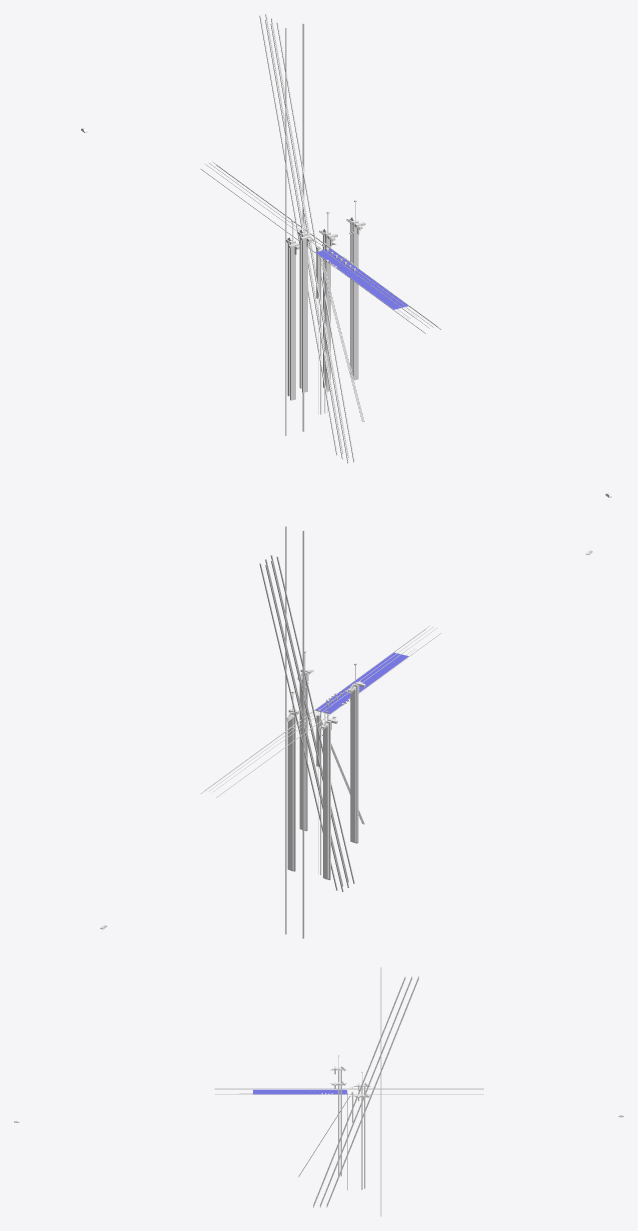
The model's file is BigMirrorEnvironment.glb.
3 views of the same model, one above another, from view 1: azimuth 30°, elevation 25°; view 2: azimuth 150°, elevation 25°; view 3: azimuth 270°, elevation 25° (orthographic). The views are drawn at different scales.
Visible parts, largest first — view 1: CombinedMesh (×6), Floor; view 2: CombinedMesh (×6), Floor; view 3: CombinedMesh (×4), Floor.
Boxes of the visible parts, x1,y1,x2,y2 form: CombinedMesh (×6): (201, 14, 441, 463); Floor: (315, 248, 408, 309); CombinedMesh (×6): (201, 526, 441, 938); Floor: (315, 652, 408, 713); CombinedMesh (×4): (214, 967, 483, 1216); Floor: (253, 1089, 347, 1094).
Size of the model in its own units: 395 by 400 by 905.
Materials: 9 (2 with a texture image).
